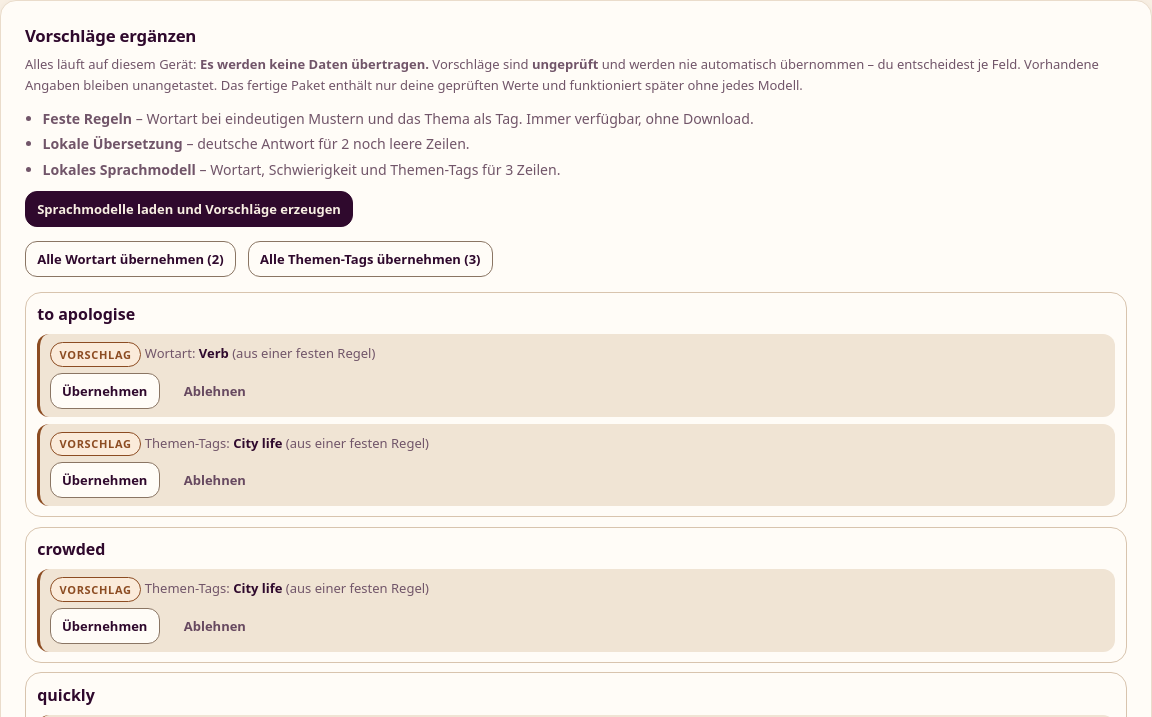
Scenario: Sammelaktionen › übernimmt nur leere Felder ausgewählter Zeilen
This screenshot has width=1152, height=717.
Click the button "Sprachmodelle laden und Vorschläge erzeugen".
click(189, 209)  # box [25,191,353,227]
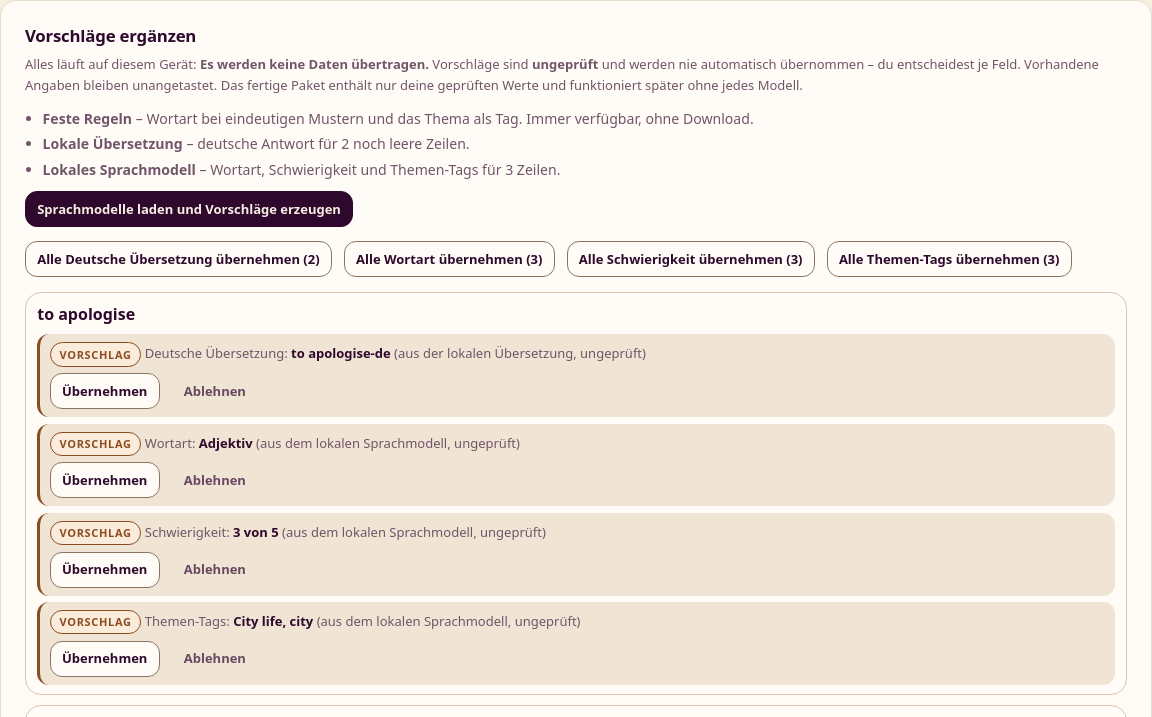
Now the text "to apologise-de" is shown, box [291,345,391,363]
Click the button "Alle Deutsche Übersetzung übernehmen (2)".
click(178, 260)  # box [25,242,332,278]
(page scrolled)
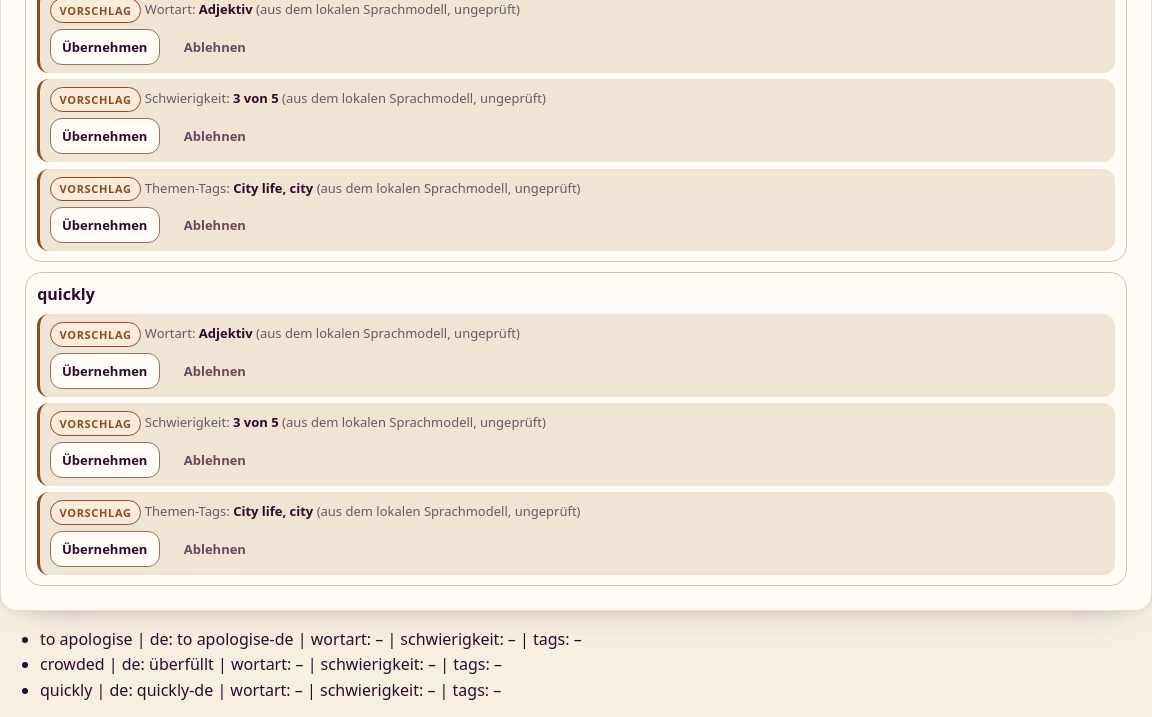
Expected: the 4th list item shows "de: überfüllt", [40,653,502,675]
Now the list item that starts with "to apologise" shows "de: to apologise-de", box [40,628,582,650]
Now the 5th list item shows "de: quickly-de", box [40,679,501,701]
